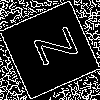Z: (24, 25, 79, 72)
